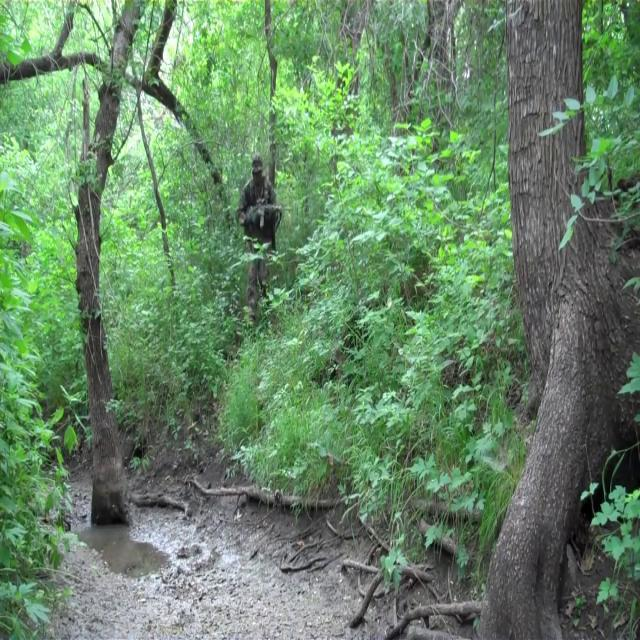MIL_Pax: (237, 156, 284, 277)
